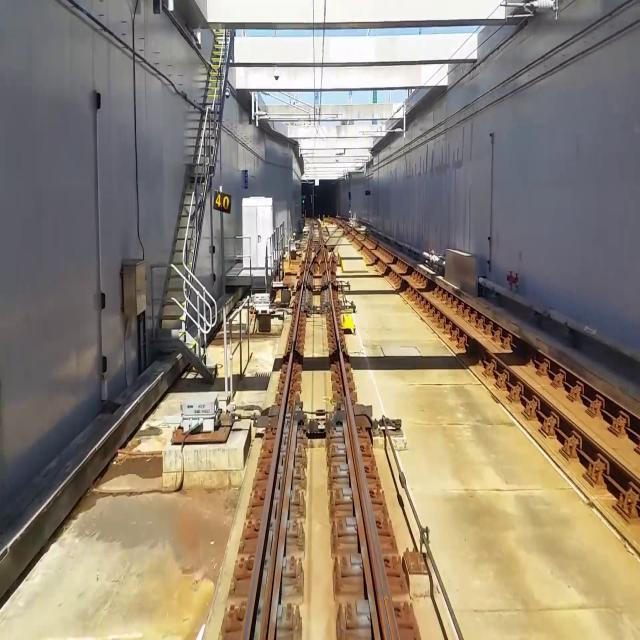rail-track: (331, 216, 640, 476), (248, 217, 392, 639), (324, 224, 344, 276)
